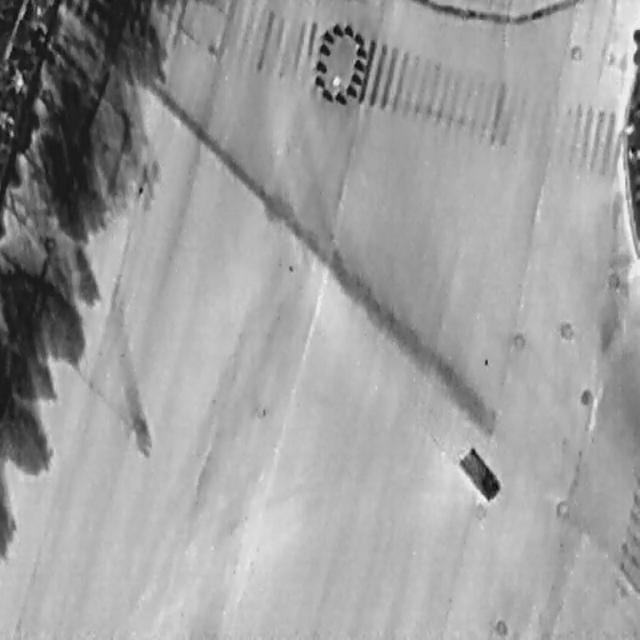Car: (456, 442, 502, 502)
